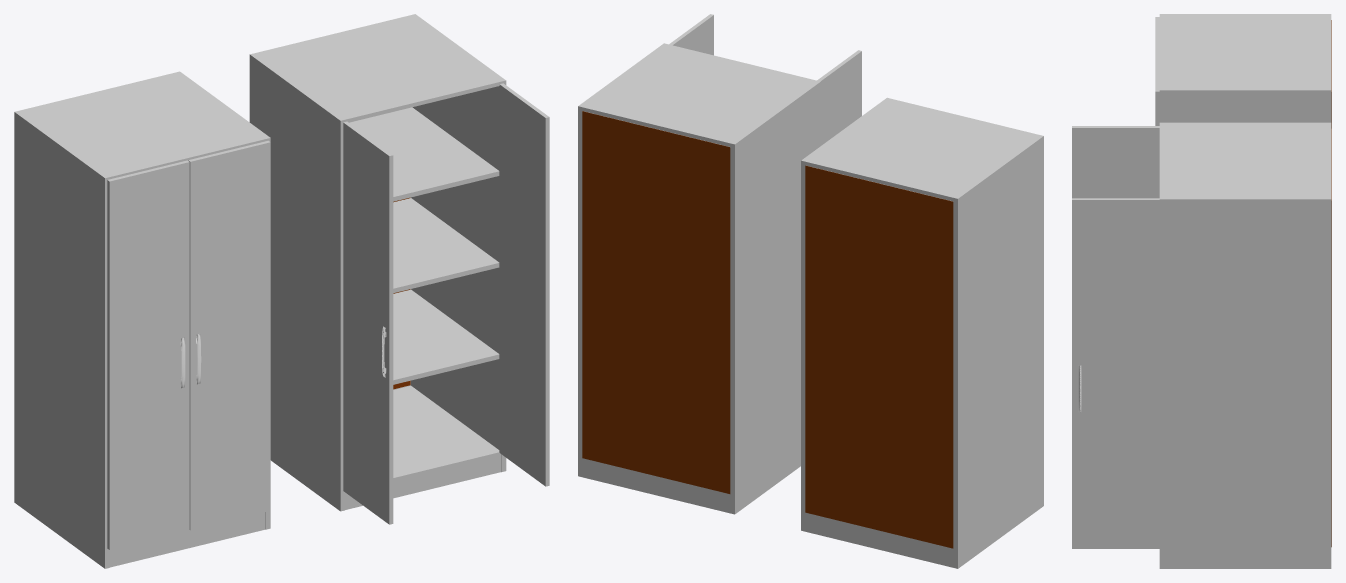
The model's file is closet_-_placard.glb.
3 views of the same model, side by side, from view 1: azimuth 30°, elevation 25°; view 2: azimuth 150°, elevation 25°; view 3: azimuth 270°, elevation 25° (orthographic). The views are drawn at different scales.
Visible parts, largest first — view 1: Base_6, Puertas.001_2, Base.001_3, Puertas_7; view 2: Base.001_3, Madera Trasera.001_1, Madera Trasera_8, Base_6, Puertas_7; view 3: Base_6, Puertas_7, Base.001_3, Puertas.001_2, Madera Trasera_8.
Part boxes in pixels (x1,y1,x2,y2): Base_6: (249,14,506,511); Puertas.001_2: (107,140,270,549); Base.001_3: (14,71,270,568); Puertas_7: (343,83,549,524); Base.001_3: (801,97,1043,568); Madera Trasera.001_1: (805,165,953,548); Madera Trasera_8: (582,111,730,493); Base_6: (578,43,820,514); Puertas_7: (669,14,861,145); Base_6: (1159,122,1331,568); Puertas_7: (1072,126,1159,548); Base.001_3: (1159,14,1331,128); Puertas.001_2: (1155,17,1159,125); Madera Trasera_8: (1331,129,1331,546).
Size of the model in its own units: 5.13 by 4.77 by 3.04.
